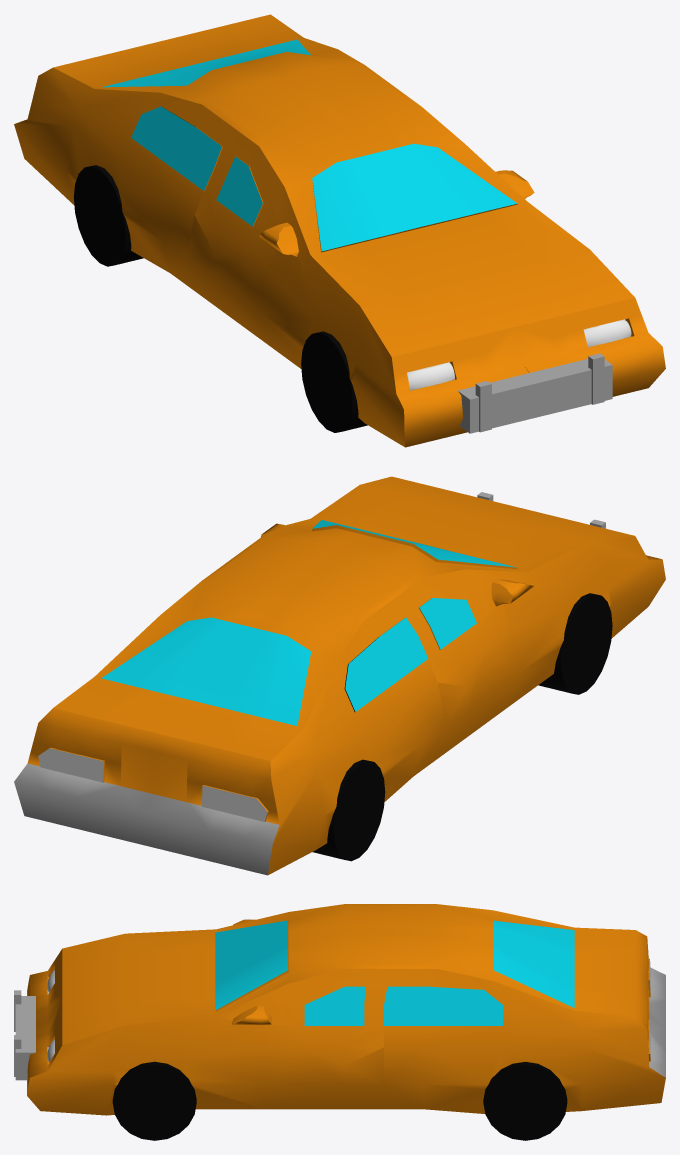
The model's file is orange car.fbx.
3 views of the same model, one above another, from view 1: azimuth 30°, elevation 25°; view 2: azimuth 150°, elevation 25°; view 3: azimuth 270°, elevation 25° (orthographic). The views are drawn at different scales.
Visible parts, largest first — view 1: polySurface8; view 2: polySurface8; view 3: polySurface8.
Boxes of the visible parts, x1,y1,x2,y2 form: polySurface8: (14,14,665,447); polySurface8: (14,476,665,875); polySurface8: (14,904,665,1140).
Bounding box in the file's own units: 1.74 × 1.23 × 4.59.
